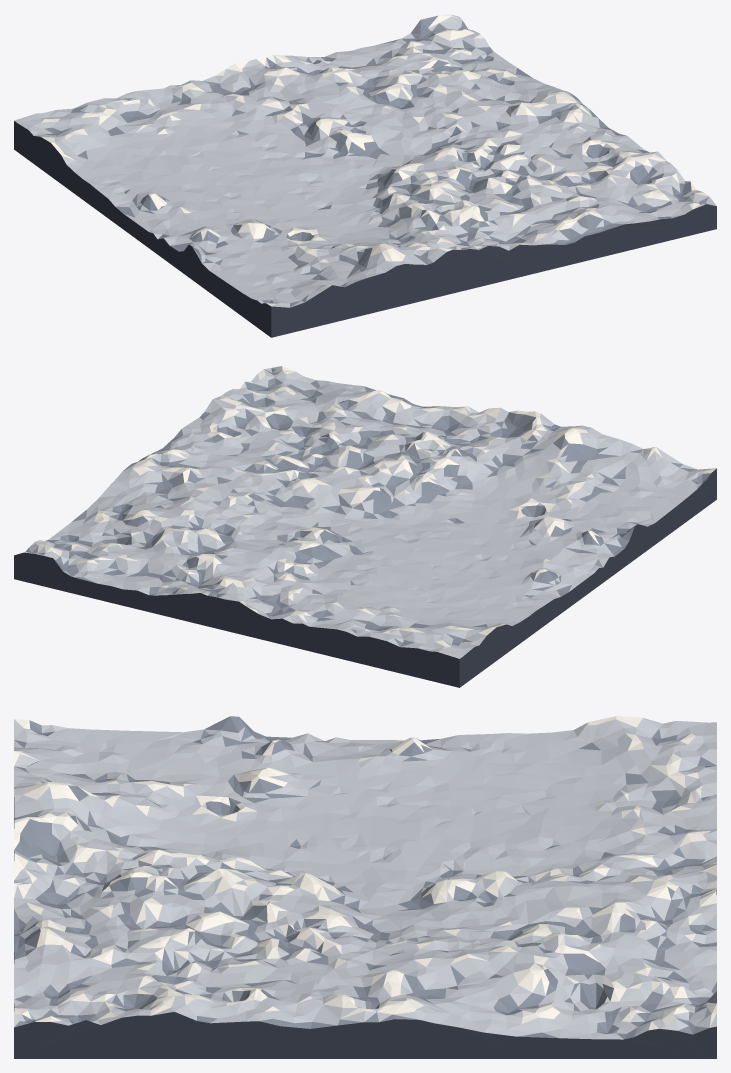
Rendered from Scene_MoonSurface.fbx.
The picture shows the model from 3 angles, top to bottom: view 1: azimuth 30°, elevation 25°; view 2: azimuth 150°, elevation 25°; view 3: azimuth 270°, elevation 25°; orthographic projection. The views are drawn at different scales.
Parts seen in each view (by area): view 1: Scene_MoonSurface.Ground; view 2: Scene_MoonSurface.Ground; view 3: Scene_MoonSurface.Ground.
Boxes of the visible parts, x1,y1,x2,y2 form: Scene_MoonSurface.Ground: (14, 14, 716, 337); Scene_MoonSurface.Ground: (14, 366, 716, 687); Scene_MoonSurface.Ground: (14, 716, 716, 1058).
Size of the model in its own units: 20 by 2.07 by 20.
Materials: 1 (1 with a texture image).
